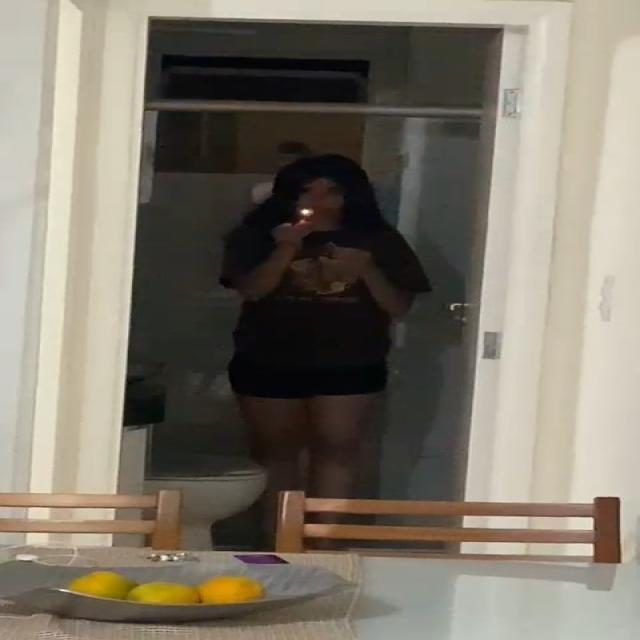fogo-ypXI: (299, 208, 312, 216)
